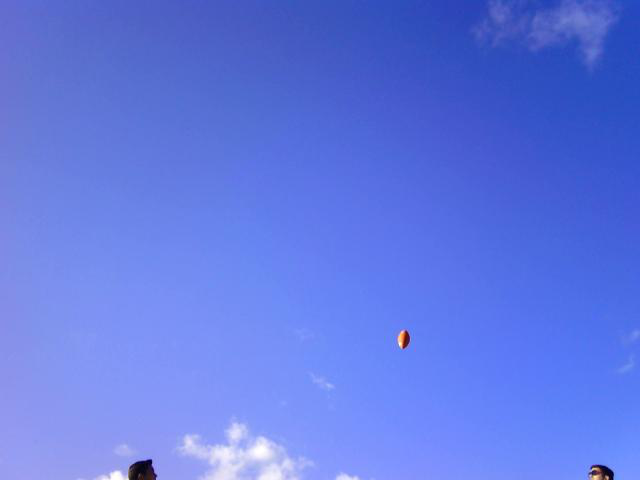football: (394, 329, 411, 353)
